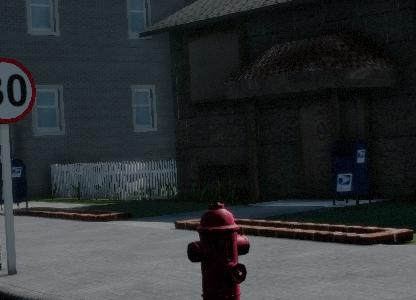Speed_30: (31, 46, 102, 120)
